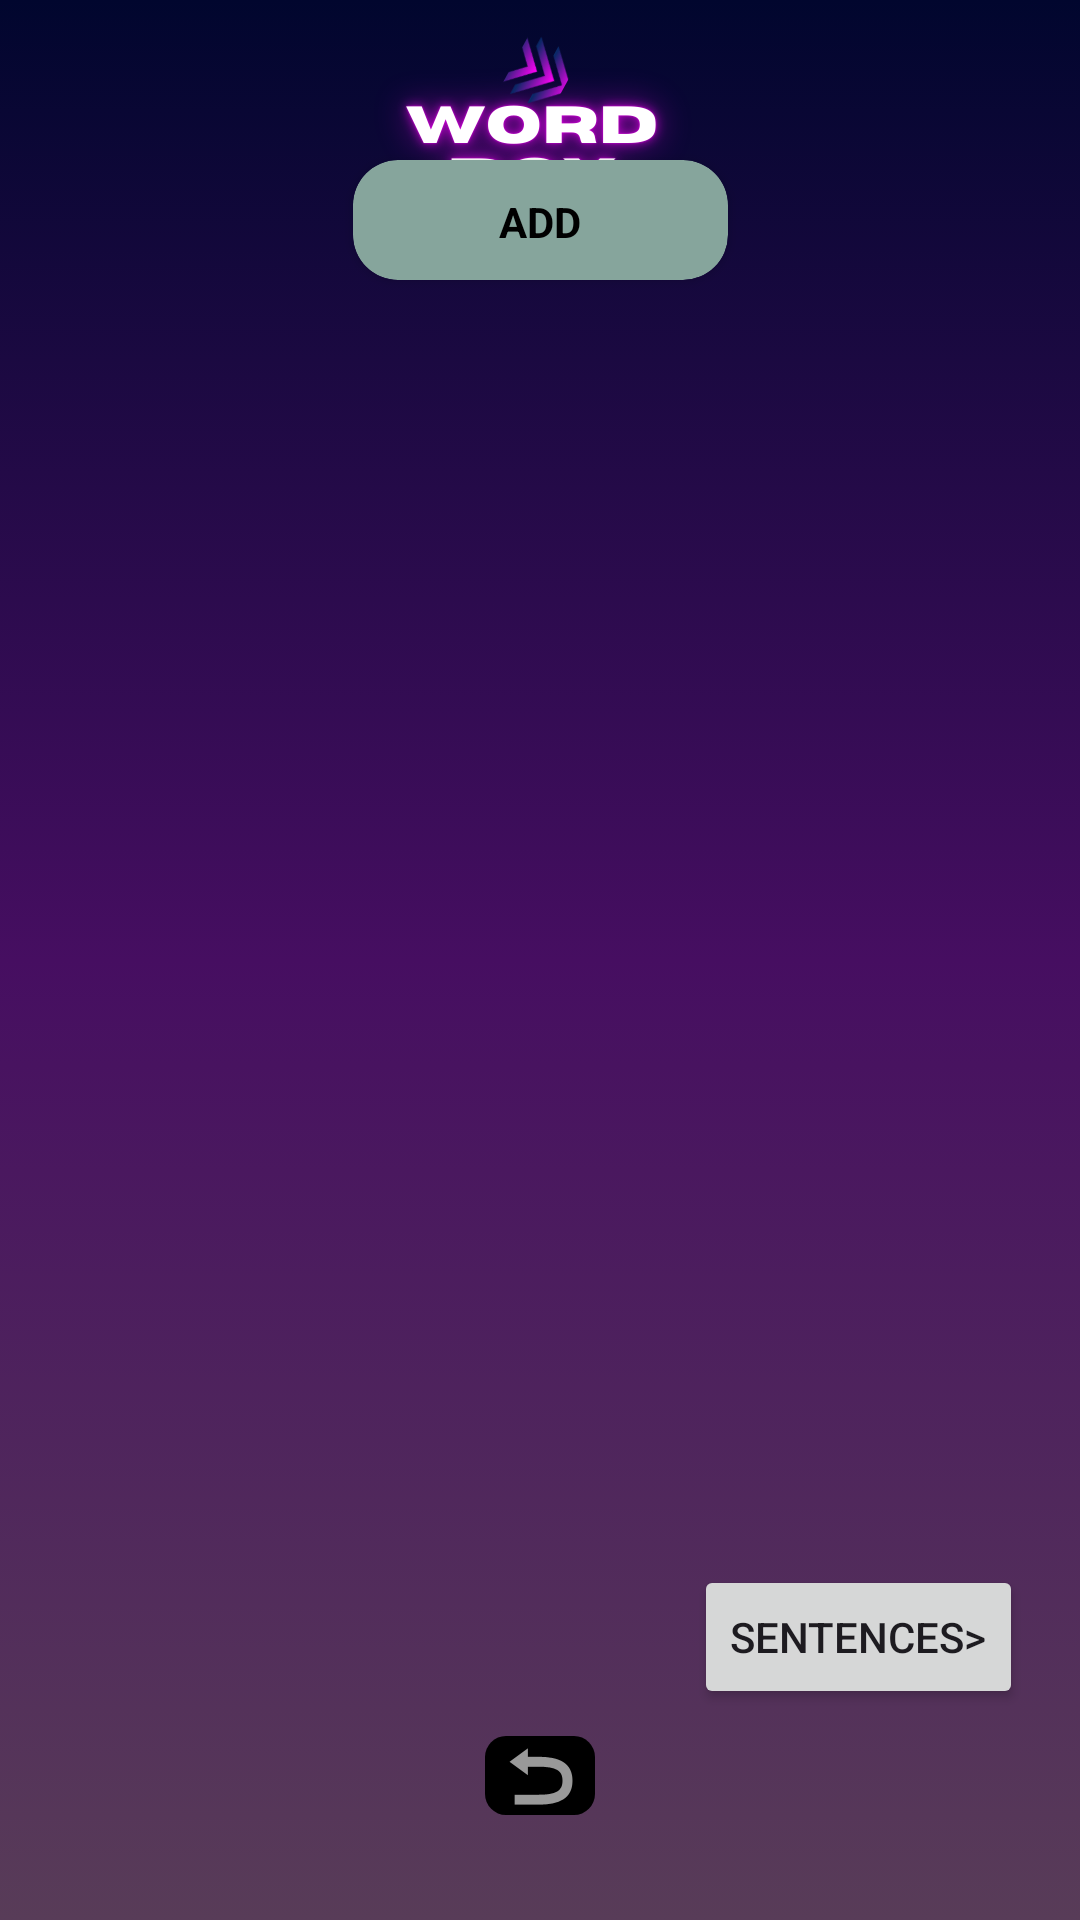

Icons on this 1080px×1920px Android screen, each with its box as box(x1, y1, x2, y2):
revert: box(485, 1736, 595, 1815)
